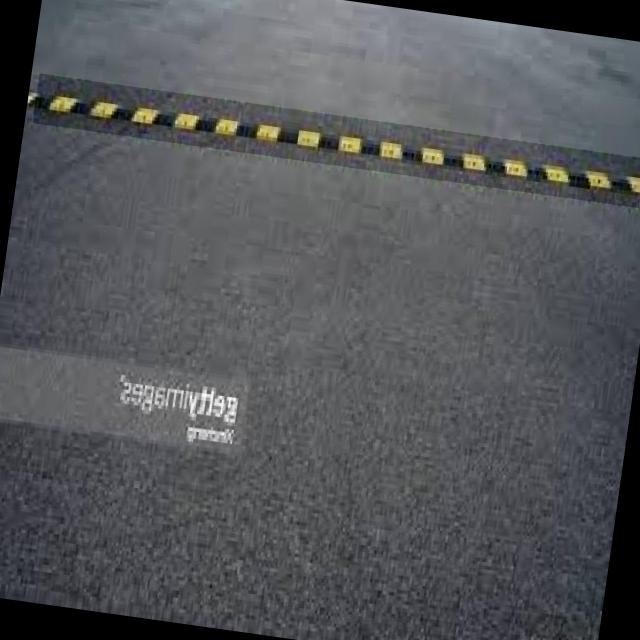bump: (32, 73, 640, 208)
